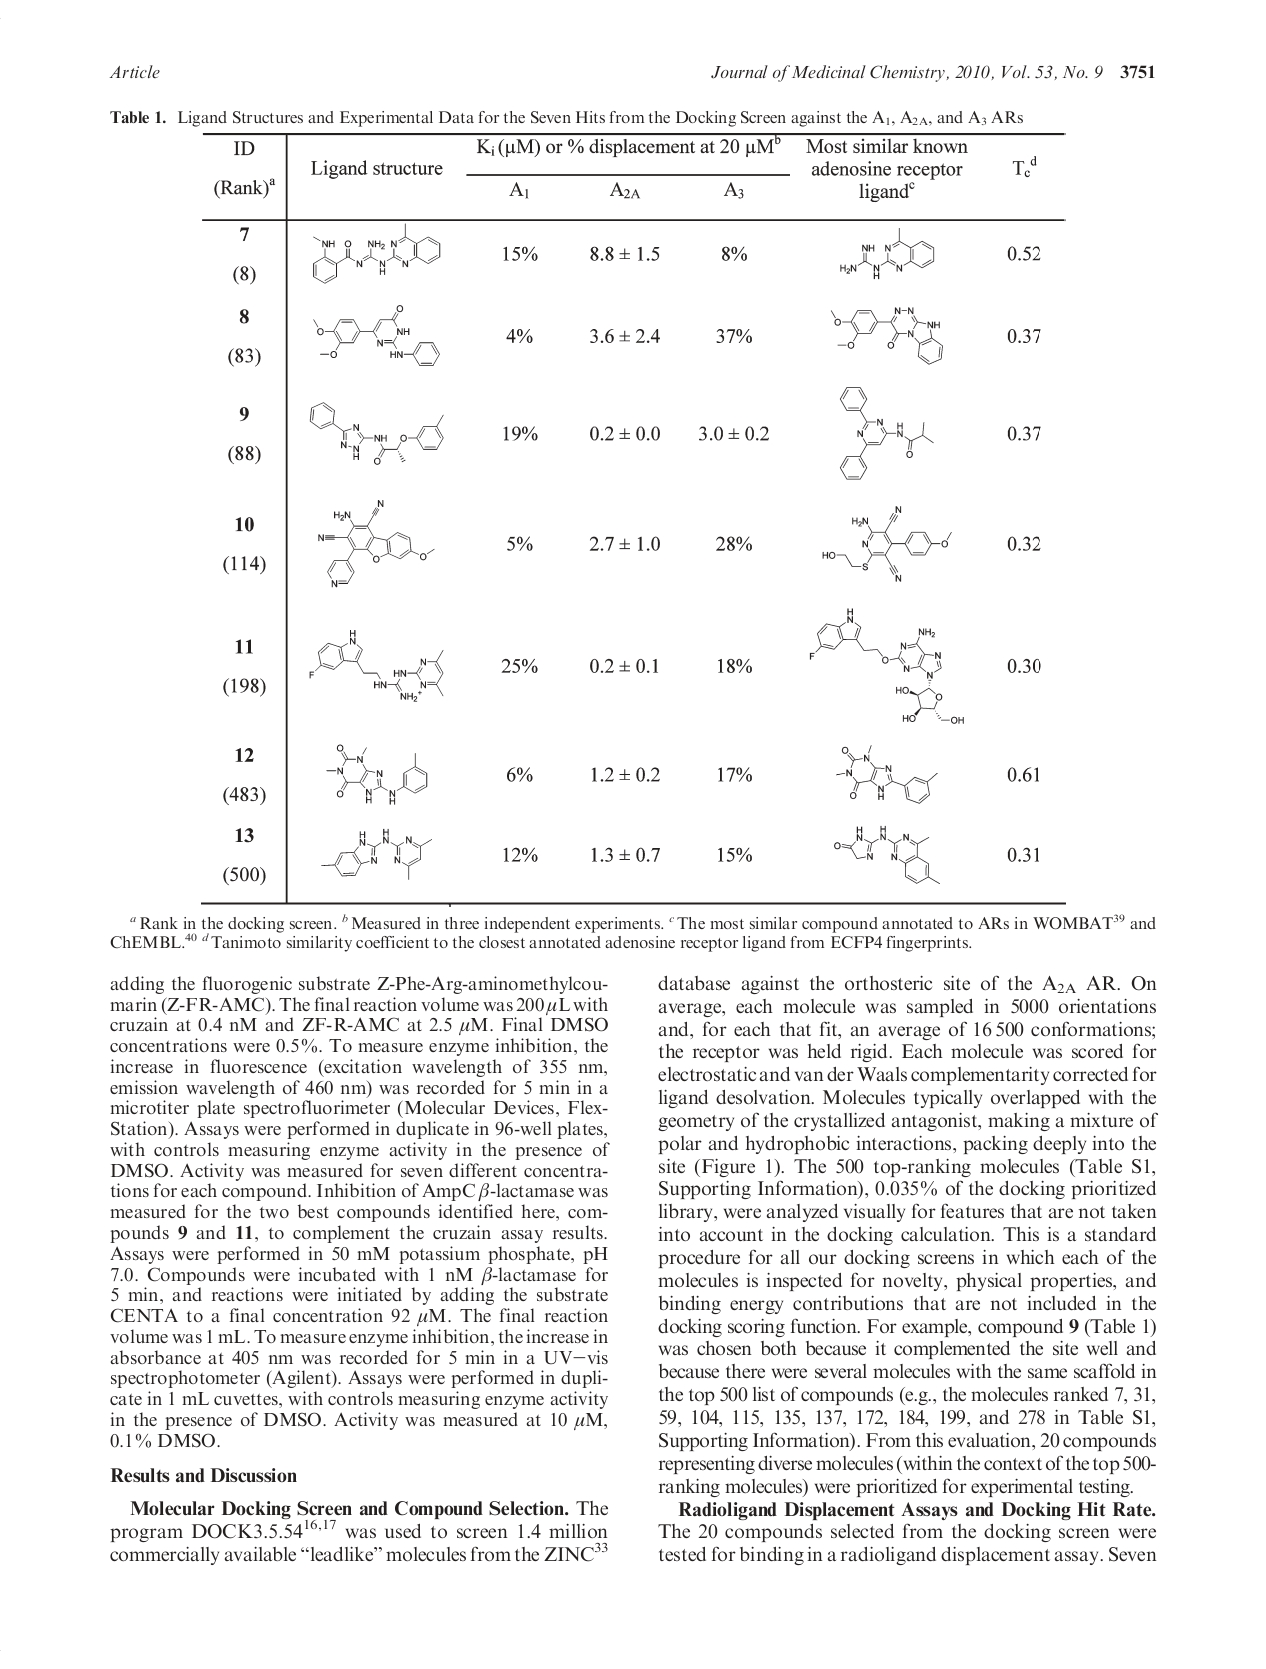exist_molecular: (805, 601, 967, 726), (302, 622, 449, 704), (316, 496, 438, 590), (821, 503, 955, 584), (836, 383, 936, 481), (310, 400, 449, 468), (309, 222, 443, 287), (313, 301, 442, 366), (832, 739, 942, 809), (834, 821, 946, 887), (828, 303, 946, 366), (324, 742, 432, 809), (319, 829, 436, 880), (836, 226, 936, 279)
